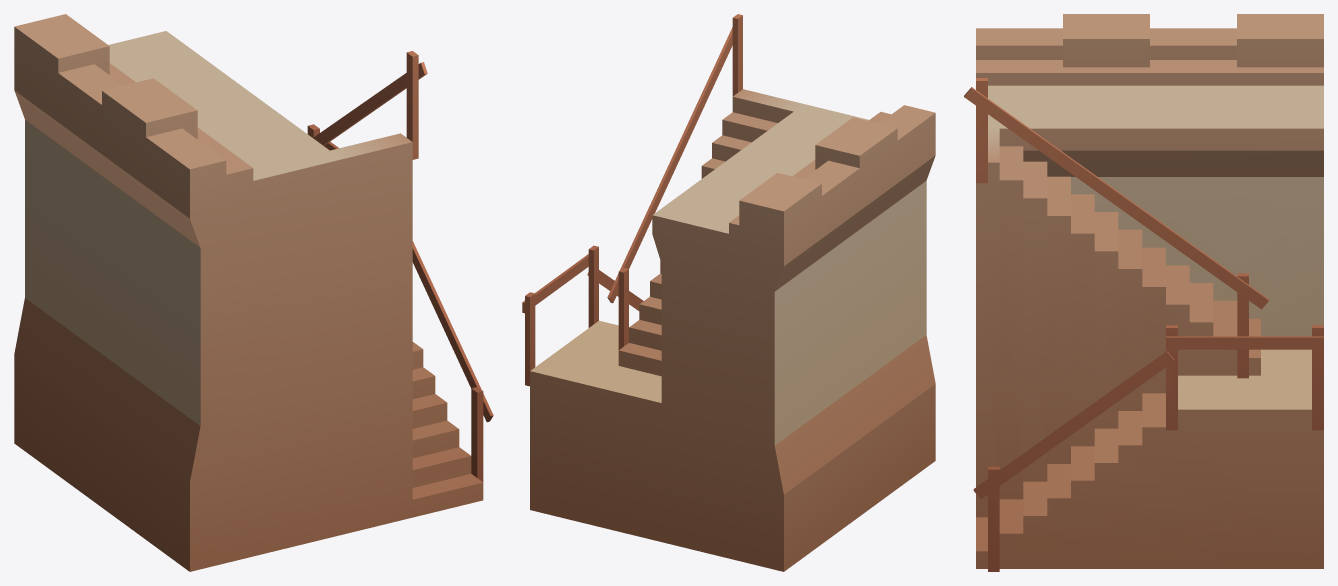
The model's file is wall-narrow-stairs-rail.glb.
The picture shows the model from 3 angles, left to right: view 1: azimuth 30°, elevation 25°; view 2: azimuth 150°, elevation 25°; view 3: azimuth 270°, elevation 25°; orthographic projection. The views are drawn at different scales.
Visible parts, largest first — view 1: wall-narrow-stairs-rail; view 2: wall-narrow-stairs-rail; view 3: wall-narrow-stairs-rail.
Part boxes in pixels (<box>): wall-narrow-stairs-rail: <box>14,14,493,571</box>; wall-narrow-stairs-rail: <box>522,14,935,571</box>; wall-narrow-stairs-rail: <box>964,14,1323,571</box>.
Bounding box in the file's own units: 0.995 × 1.45 × 1.03.
